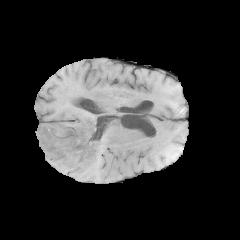glioma: (36, 117, 102, 171)
